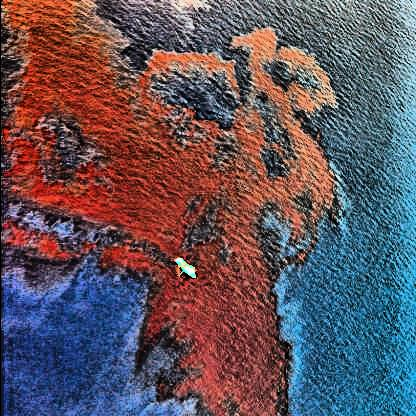truecolor: (2, 0, 335, 416)
